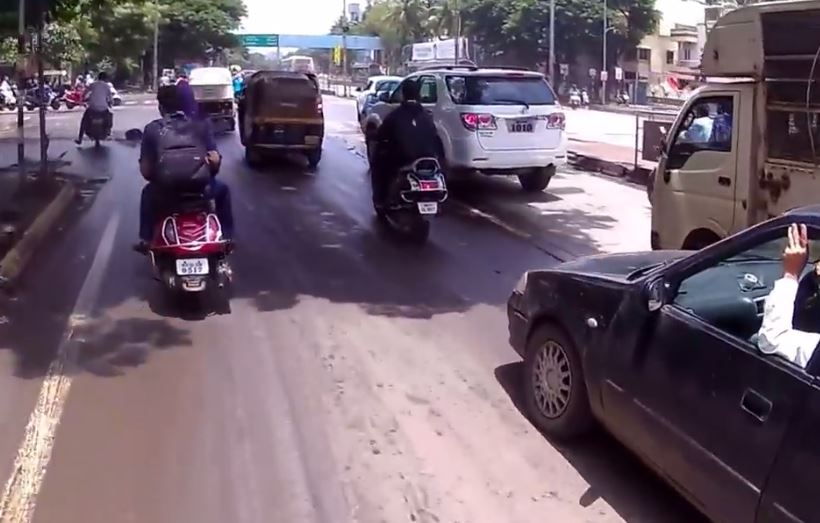autorickshaw: (236, 62, 332, 176), (186, 59, 241, 135)
car: (500, 201, 820, 519), (366, 62, 579, 200)
